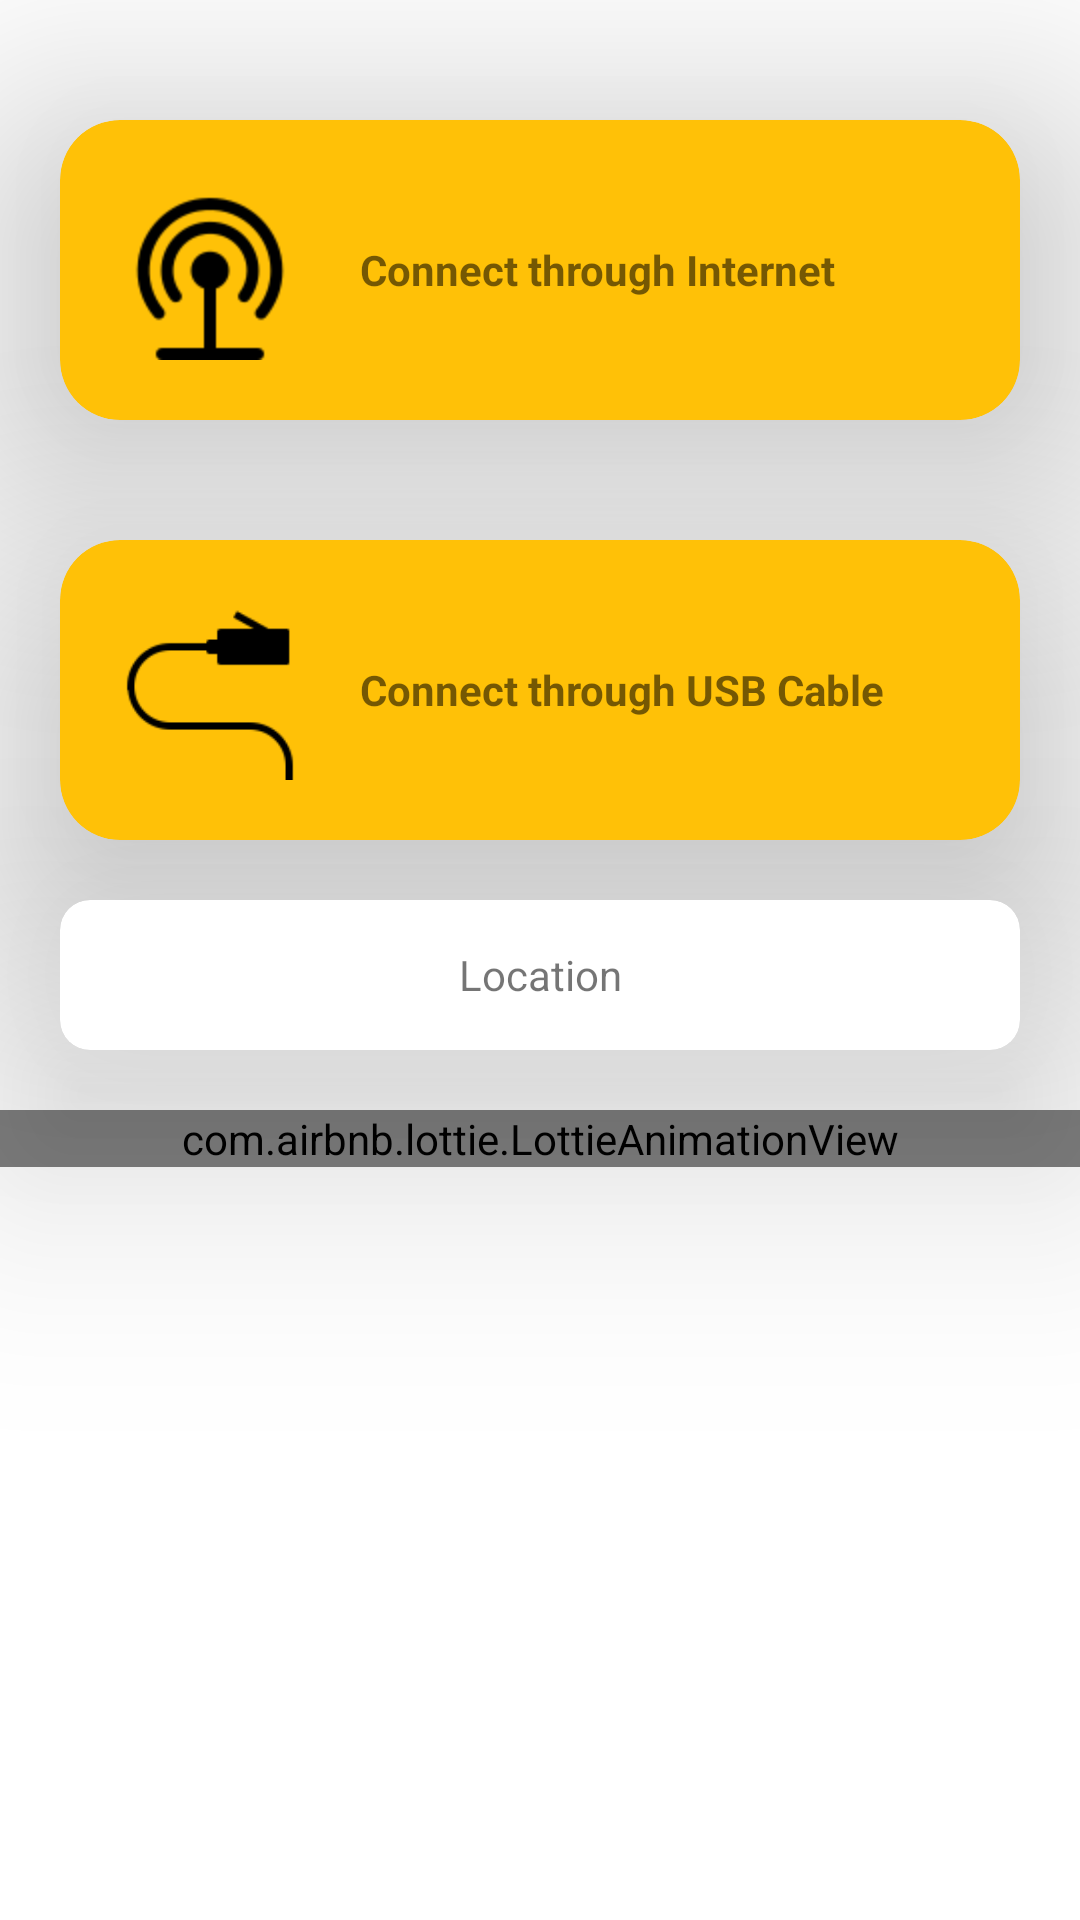

Named icons in this screenshot (1080px x 1920px) and their centers, (x,y):
antenna: (210,270)
